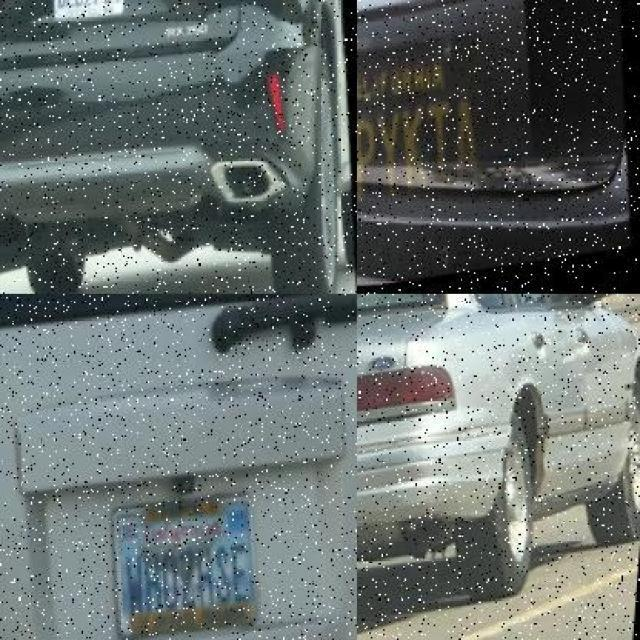LicensePlate: (357, 36, 508, 219), (106, 489, 272, 640), (49, 0, 134, 42)
